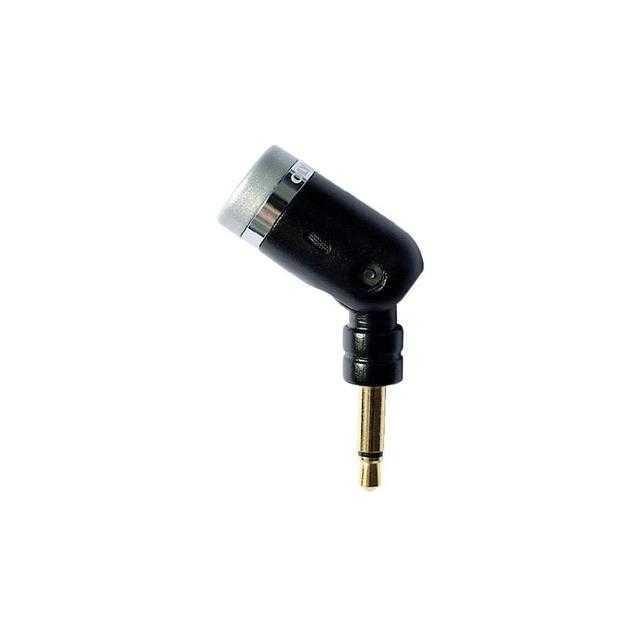microphone: (212, 141, 445, 318)
